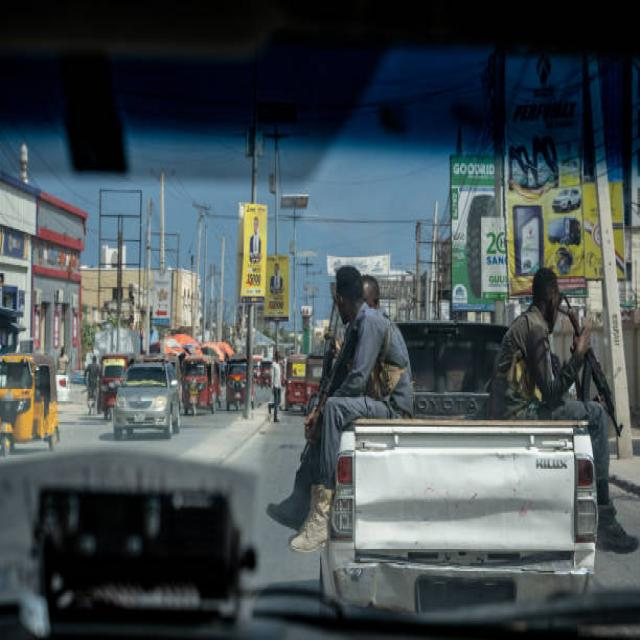terrorist: (488, 267, 637, 551), (291, 265, 412, 549)
